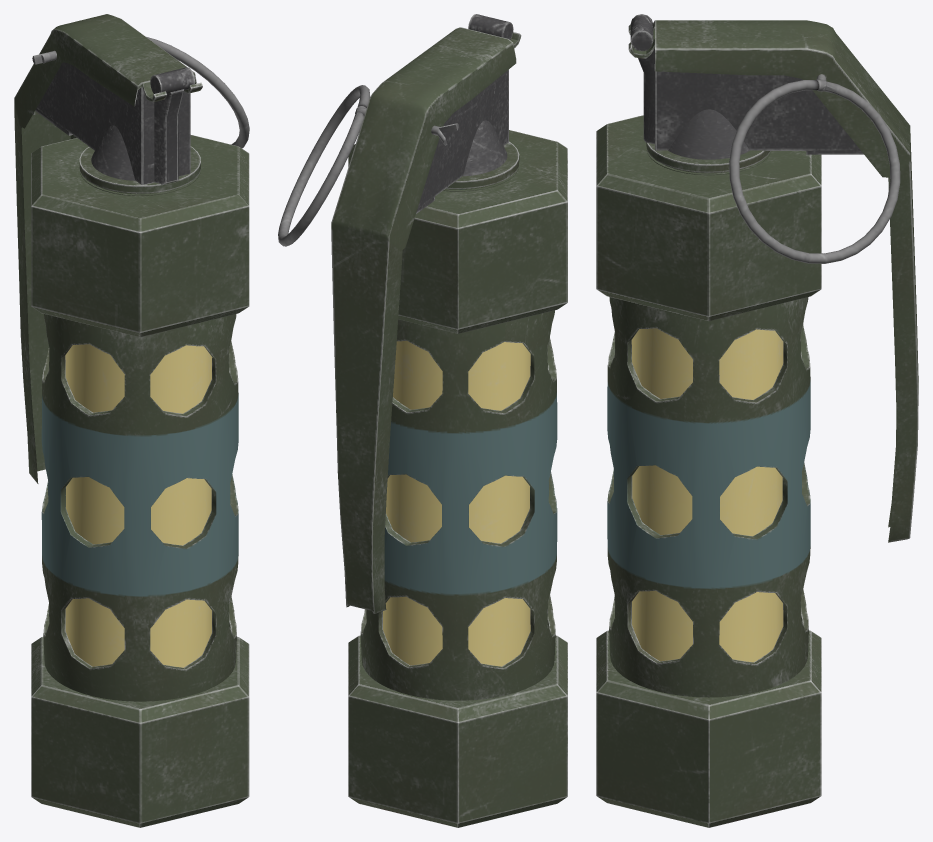
The model's file is flash-view.glb.
The picture shows the model from 3 angles, left to right: view 1: azimuth 30°, elevation 25°; view 2: azimuth 150°, elevation 25°; view 3: azimuth 270°, elevation 25°; orthographic projection. The views are drawn at different scales.
Parts seen in each view (by area): view 1: Flashbang, Pin; view 2: Flashbang, Pin; view 3: Flashbang, Pin.
Part boxes in pixels (x1=…): Flashbang: x1=14, y1=14, x2=249, y2=827; Pin: x1=32, y1=37, x2=249, y2=148; Flashbang: x1=331, y1=14, x2=567, y2=827; Pin: x1=278, y1=85, x2=458, y2=246; Flashbang: x1=596, y1=14, x2=918, y2=827; Pin: x1=729, y1=74, x2=900, y2=263.
Size of the model in its own units: 0.0412 by 0.12 by 0.0464.
1 material, 1 textured.
